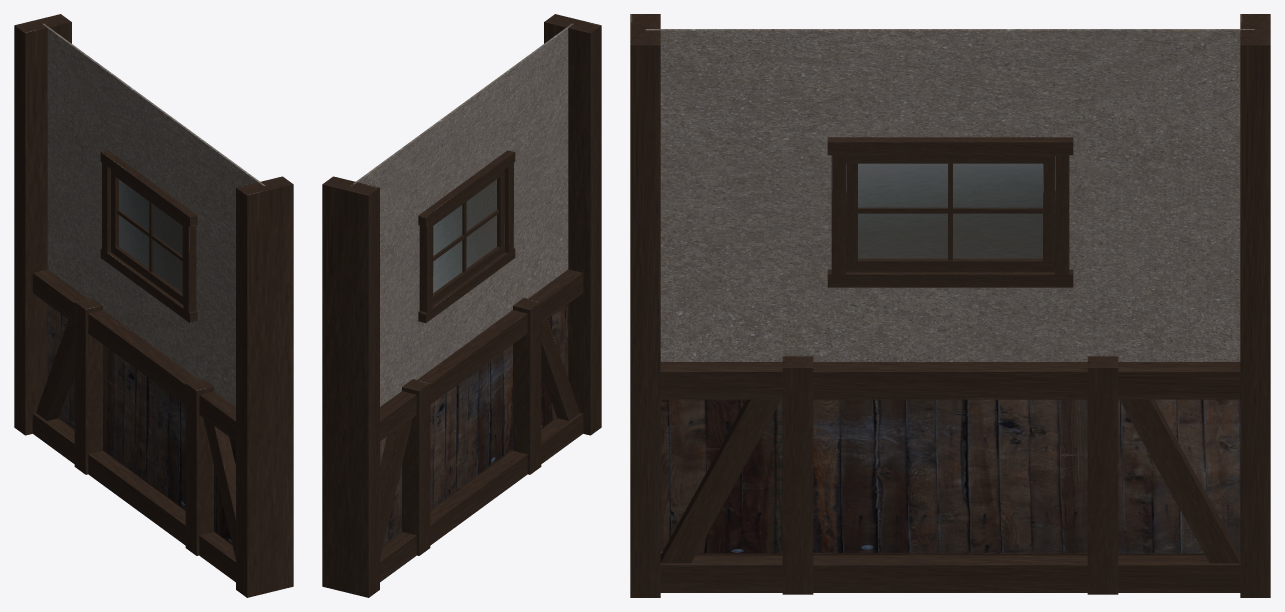
The model's file is OutdoorArchitecture_BasicWall04_Window03_BothEdges_BShortt.fbx.
3 views of the same model, side by side, from view 1: azimuth 30°, elevation 25°; view 2: azimuth 150°, elevation 25°; view 3: azimuth 270°, elevation 25° (orthographic). The views are drawn at different scales.
Parts seen in each view (by area): view 1: OutdoorArchitecture_BasicWall04_Window03_BothEdges_BShortt; view 2: OutdoorArchitecture_BasicWall04_Window03_BothEdges_BShortt; view 3: OutdoorArchitecture_BasicWall04_Window03_BothEdges_BShortt.
Boxes of the visible parts, bbox=[...] form: OutdoorArchitecture_BasicWall04_Window03_BothEdges_BShortt: bbox=[14, 14, 293, 597]; OutdoorArchitecture_BasicWall04_Window03_BothEdges_BShortt: bbox=[322, 14, 601, 597]; OutdoorArchitecture_BasicWall04_Window03_BothEdges_BShortt: bbox=[630, 14, 1270, 597].
Size of the model in its own units: 36.37 by 300 by 315.
